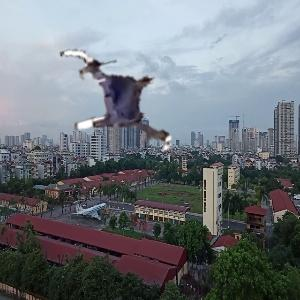drone: (48, 31, 190, 173)
